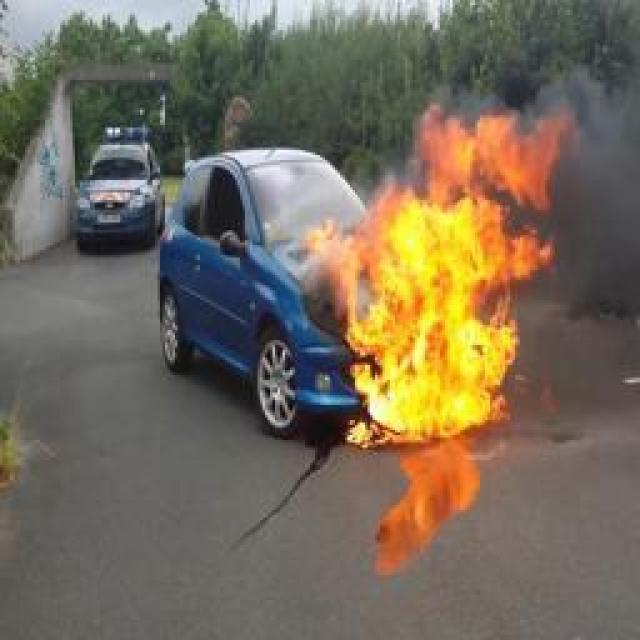Fire: (306, 104, 572, 444)
